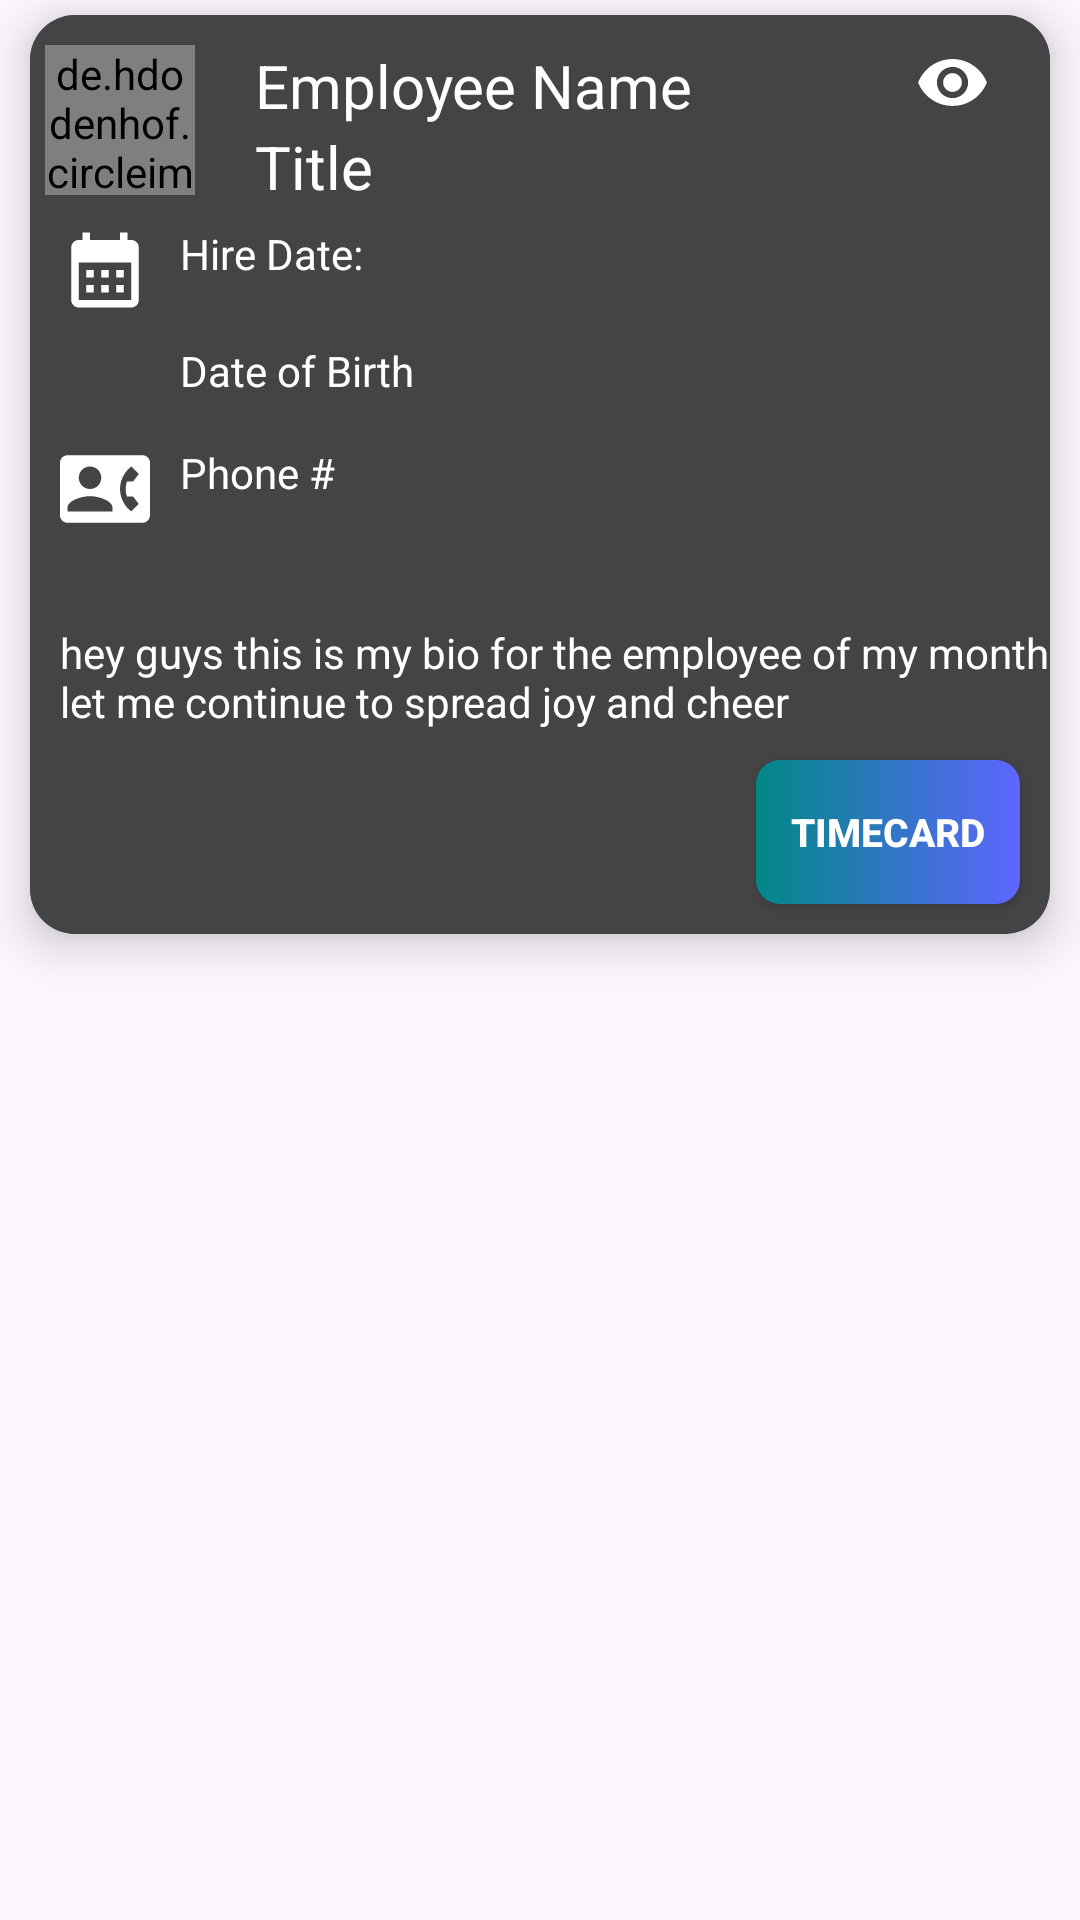

Icons on this 1080 × 1920 Android screen, each with its box as (x1, y1, x2, y2):
employee contact: (60, 455, 150, 523)
employee hire vectotr: (71, 232, 139, 308)
employee item visibility: (918, 59, 987, 106)
